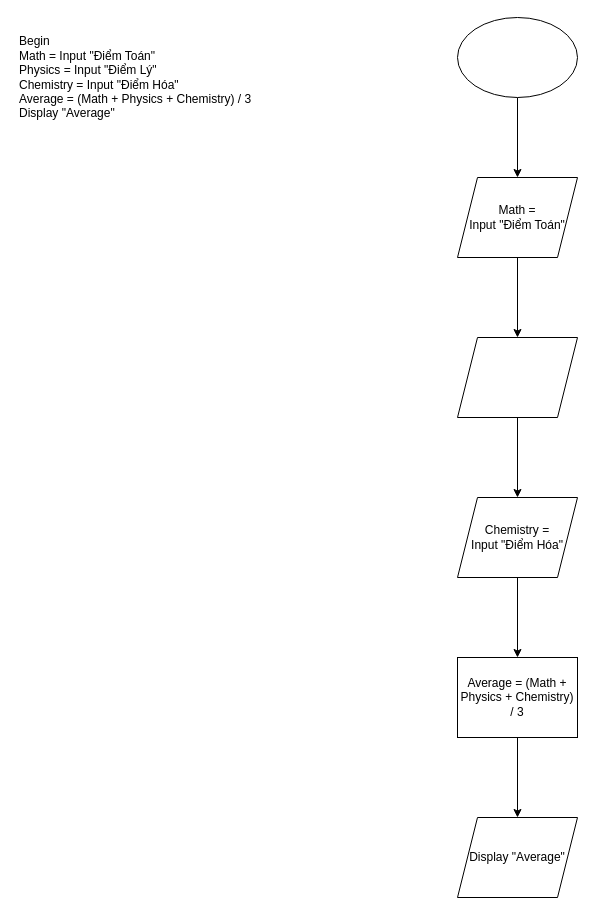
This 595x915 diagram has some shape labels left out. Each missing label, with the centre of its shape:
Begin: (x=517, y=57)
Physics = Input "Điểm Lý": (x=517, y=377)
